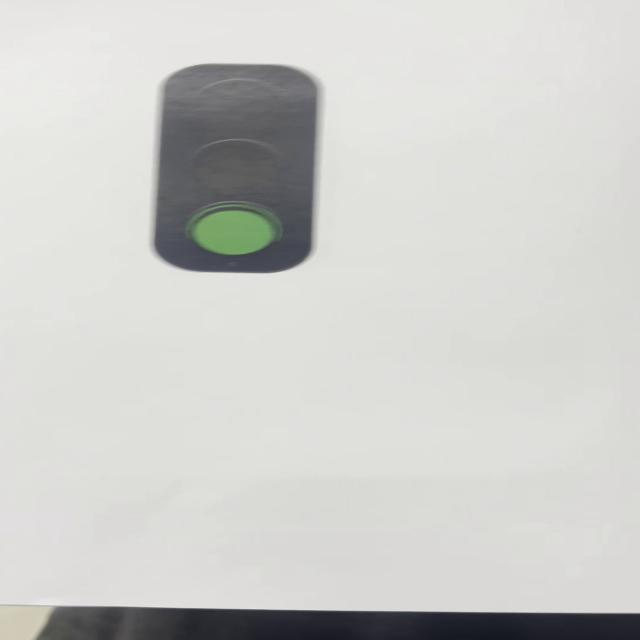green: (157, 66, 315, 275)
